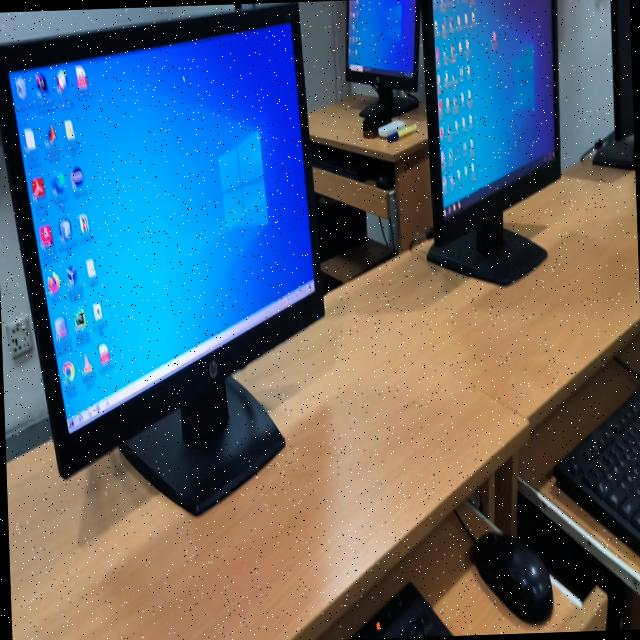Keyboard: (553, 385, 640, 556), (347, 583, 453, 639)
Monitor: (0, 2, 323, 512), (421, 0, 557, 283), (344, 0, 419, 116), (592, 0, 635, 168)
Mouse: (469, 531, 551, 623), (375, 174, 393, 188)
